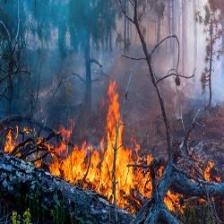fire: (53, 116, 169, 221)
